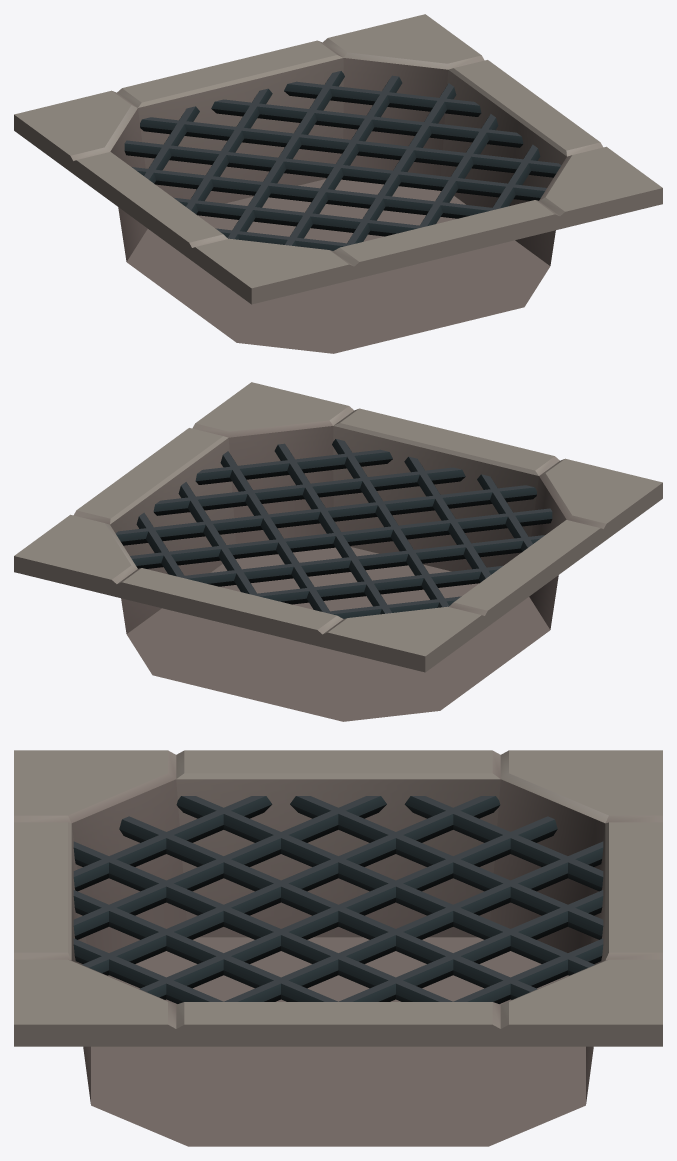
The model's file is floor_tile_big_grate.gltf.
The picture shows the model from 3 angles, top to bottom: view 1: azimuth 30°, elevation 25°; view 2: azimuth 150°, elevation 25°; view 3: azimuth 270°, elevation 25°; orthographic projection. The views are drawn at different scales.
Visible parts, largest first — view 1: floor_tile_big_grate; view 2: floor_tile_big_grate; view 3: floor_tile_big_grate.
Boxes of the visible parts, x1,y1,x2,y2 form: floor_tile_big_grate: (14,14,662,353); floor_tile_big_grate: (14,382,662,721); floor_tile_big_grate: (14,750,662,1146).
Bounding box in the file's own units: 4 × 1.05 × 4.
1 material, 1 textured.
